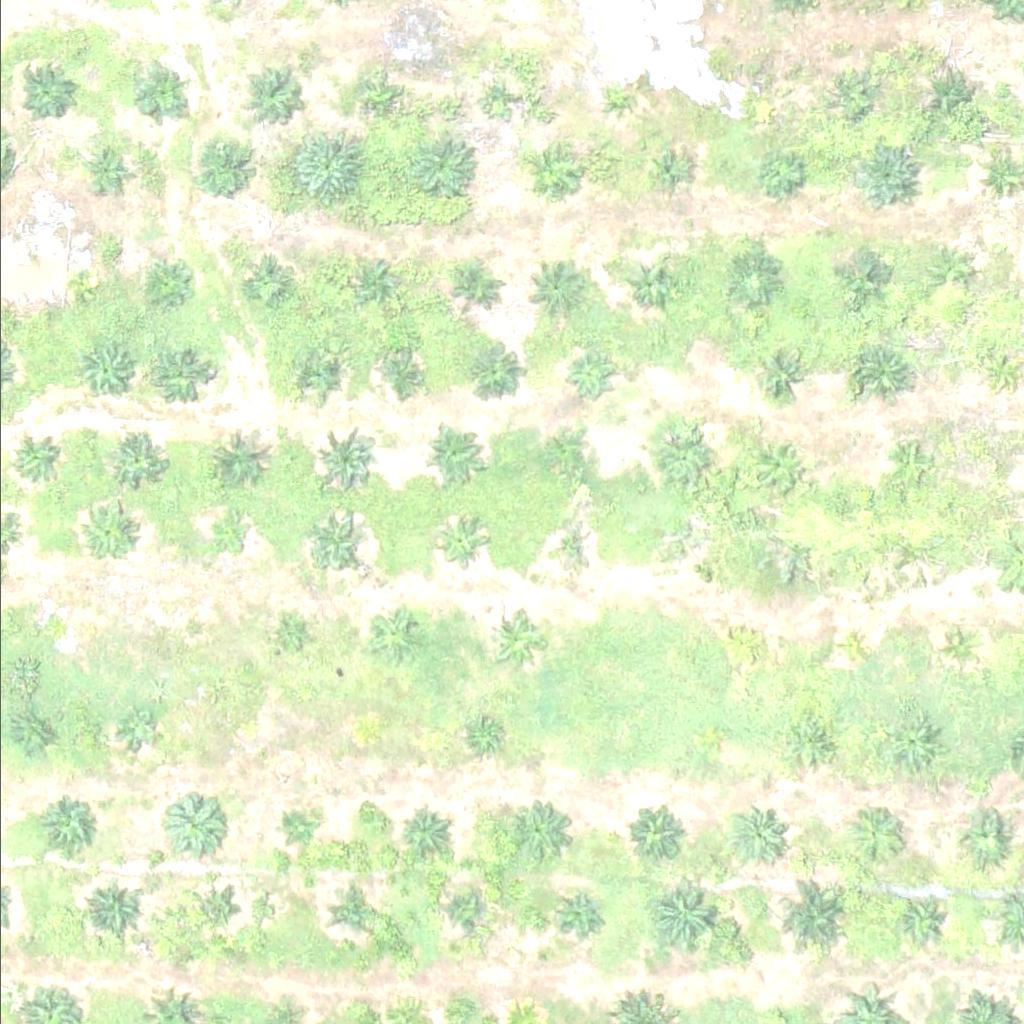Kelapa_Sawit: (767, 874, 855, 961), (403, 127, 479, 202), (185, 131, 261, 206), (289, 131, 365, 206), (649, 877, 724, 952), (165, 791, 228, 854), (243, 60, 306, 123), (361, 602, 424, 665), (147, 345, 210, 408), (843, 800, 906, 863), (726, 803, 789, 866), (523, 261, 586, 324), (652, 419, 715, 482), (484, 609, 547, 672), (854, 148, 917, 211), (877, 714, 940, 777), (454, 340, 517, 403), (416, 424, 479, 486), (38, 792, 101, 854), (203, 425, 266, 487), (302, 512, 365, 574), (319, 428, 382, 490), (506, 797, 569, 859), (623, 801, 686, 863), (81, 875, 144, 937), (850, 343, 913, 405), (749, 437, 812, 499), (69, 342, 131, 404), (435, 518, 486, 568), (397, 803, 448, 853), (327, 880, 378, 930), (727, 255, 778, 305), (845, 253, 896, 303), (923, 73, 974, 123), (829, 74, 880, 124), (756, 150, 807, 200), (756, 348, 807, 398), (541, 522, 592, 572), (543, 434, 594, 484), (566, 352, 617, 402), (624, 260, 675, 310), (131, 71, 181, 121), (21, 67, 71, 117), (148, 257, 198, 307), (244, 256, 294, 306), (113, 438, 163, 488), (81, 508, 131, 558), (957, 812, 1007, 862), (548, 884, 598, 934), (523, 149, 573, 199), (789, 717, 839, 767), (185, 881, 235, 931), (434, 885, 484, 935), (886, 443, 936, 493), (926, 246, 976, 296), (378, 350, 428, 400), (294, 352, 344, 402), (358, 258, 408, 308), (453, 263, 503, 313), (640, 145, 690, 195), (9, 433, 59, 483), (895, 893, 946, 942), (87, 149, 125, 187), (938, 628, 976, 666), (831, 630, 869, 668), (731, 626, 769, 664), (984, 352, 1022, 390), (460, 717, 498, 755), (208, 513, 246, 551), (25, 611, 63, 649), (9, 716, 47, 753), (277, 808, 315, 845), (977, 450, 1015, 487), (679, 533, 717, 570), (272, 616, 309, 653), (122, 711, 159, 748), (362, 89, 388, 114), (608, 82, 633, 107), (480, 87, 505, 112), (72, 270, 97, 295)
